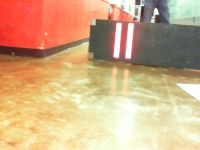switch: (112, 23, 122, 59), (125, 23, 134, 59)
